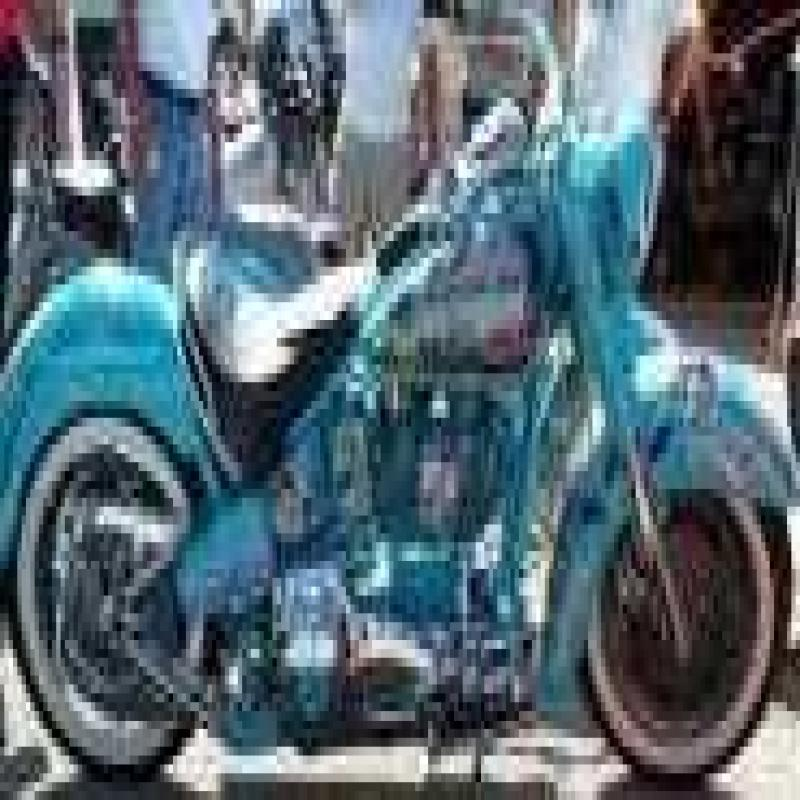bike: (4, 62, 787, 800)
